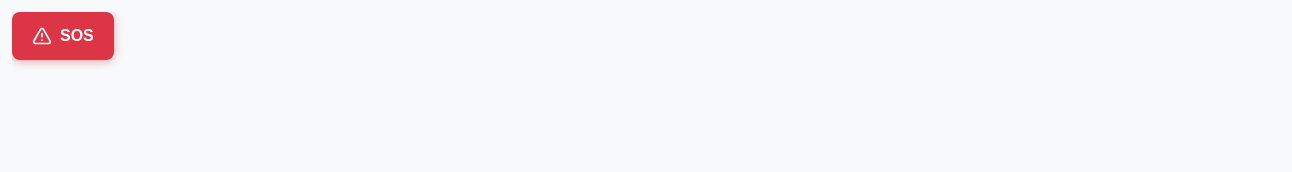
Test: SOSButton component › prompts confirmation on first tap to prevent accidental triggers
Click the button with aria-label "SOS Emergency Alert": (63, 36) x1=12 y1=12 x2=114 y2=60
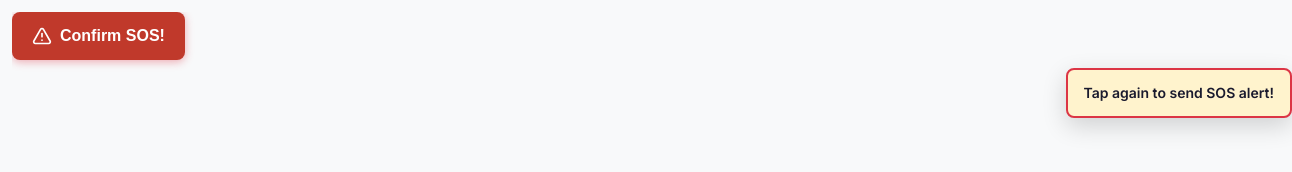
Check: the text "Tap again to send SOS alert!" is shown, box x1=1066 y1=68 x2=1291 y2=118
Check: the button "Confirm SOS!" is shown, box x1=12 y1=12 x2=185 y2=60
